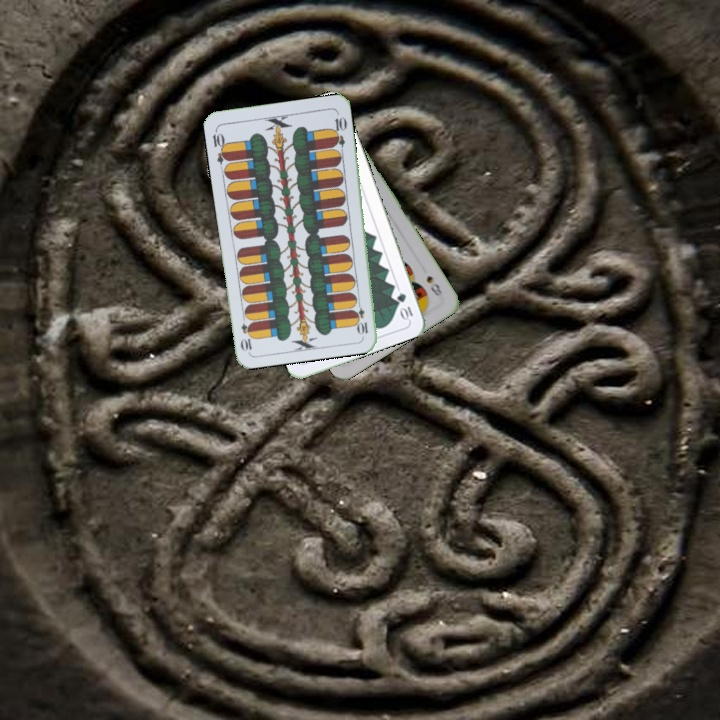E10: (209, 126, 231, 166), (352, 296, 371, 337)
G10: (393, 289, 415, 323)
S8: (422, 272, 445, 299)
